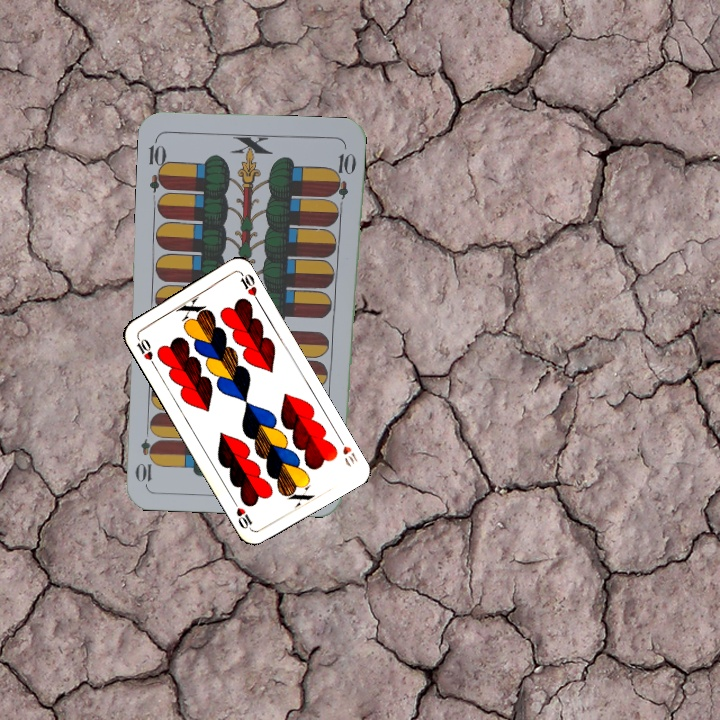E10: (145, 135, 171, 194)
H10: (132, 332, 158, 369), (334, 432, 359, 469)
